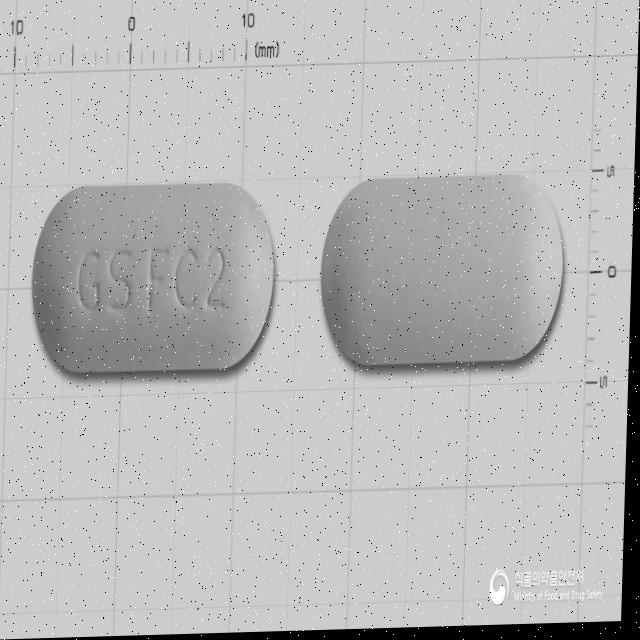Kivexa: (30, 181, 282, 376)
